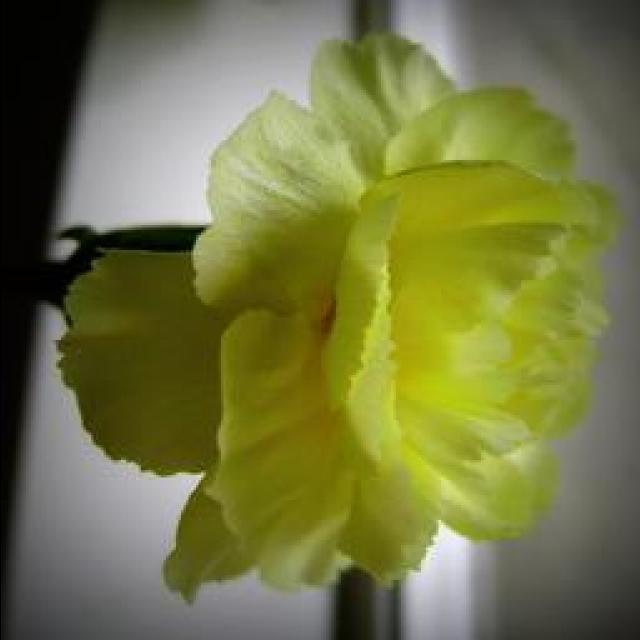carnation: (26, 35, 624, 622)
